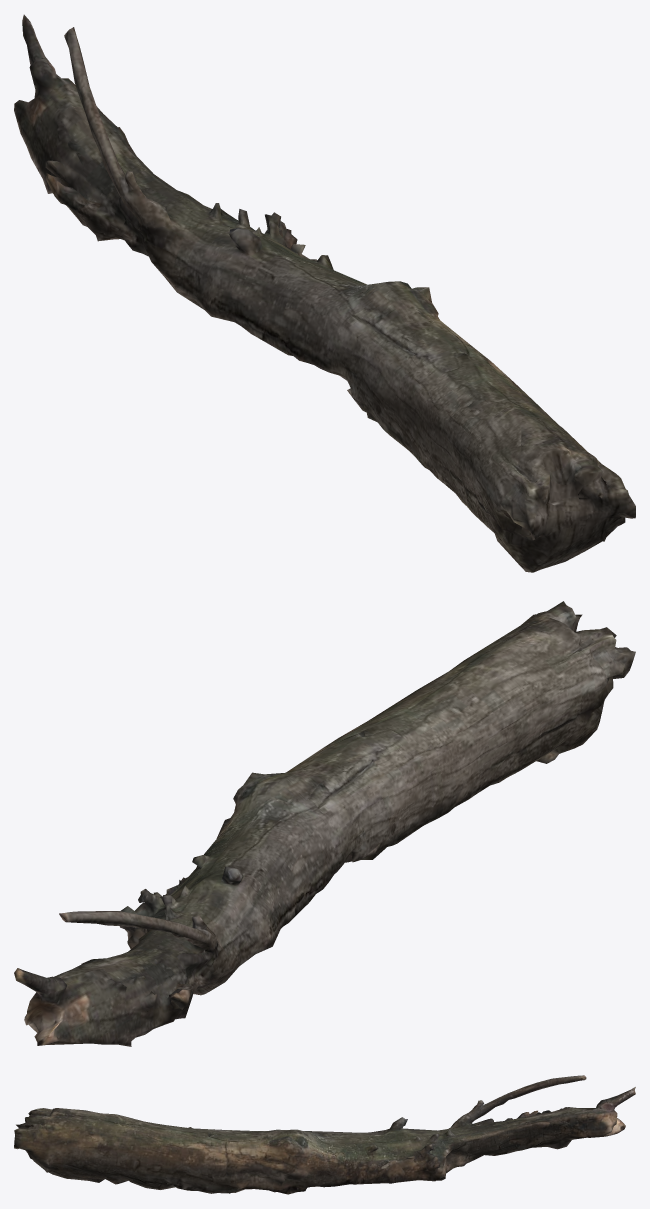
3 views of the same model, one above another, from view 1: azimuth 30°, elevation 25°; view 2: azimuth 150°, elevation 25°; view 3: azimuth 270°, elevation 25° (orthographic). The views are drawn at different scales.
Visible parts, largest first — view 1: dry_branches_medium_01__c_lod0; view 2: dry_branches_medium_01__c_lod0; view 3: dry_branches_medium_01__c_lod0.
Boxes of the visible parts, bbox=[...] form: dry_branches_medium_01__c_lod0: bbox=[14, 14, 635, 572]; dry_branches_medium_01__c_lod0: bbox=[14, 601, 635, 1046]; dry_branches_medium_01__c_lod0: bbox=[14, 1075, 635, 1194].
Size of the model in its own units: 0.1299 by 0.1428 by 0.7771.
Materials: 1 (1 with a texture image).
